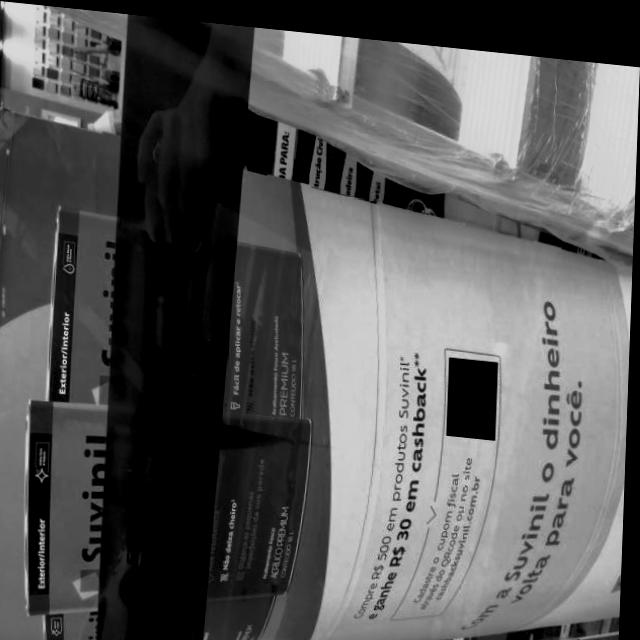qr_code: (450, 347, 500, 429)
